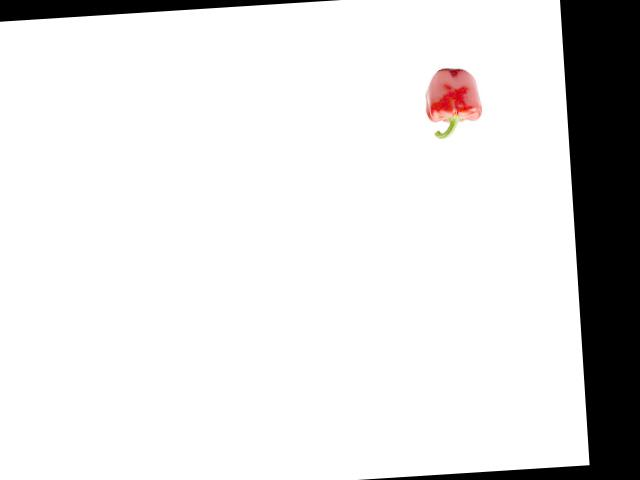bell_pepper: (419, 63, 487, 141)
